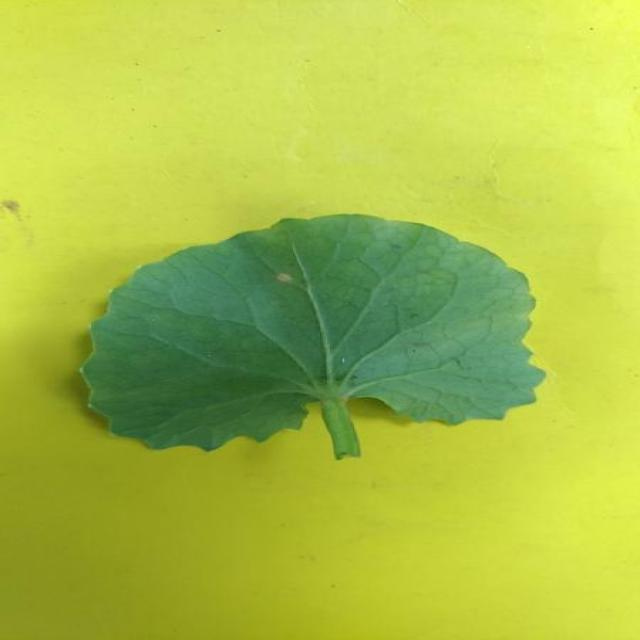bhrami: (82, 215, 545, 458)
